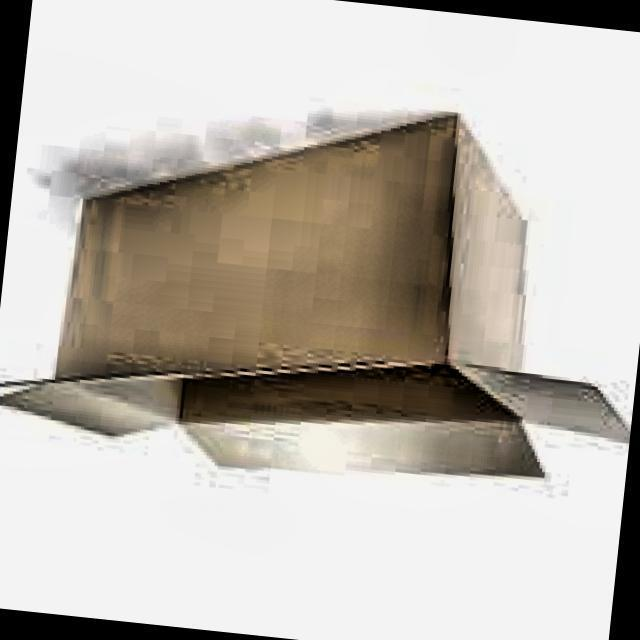cardboard: (0, 67, 640, 514)
